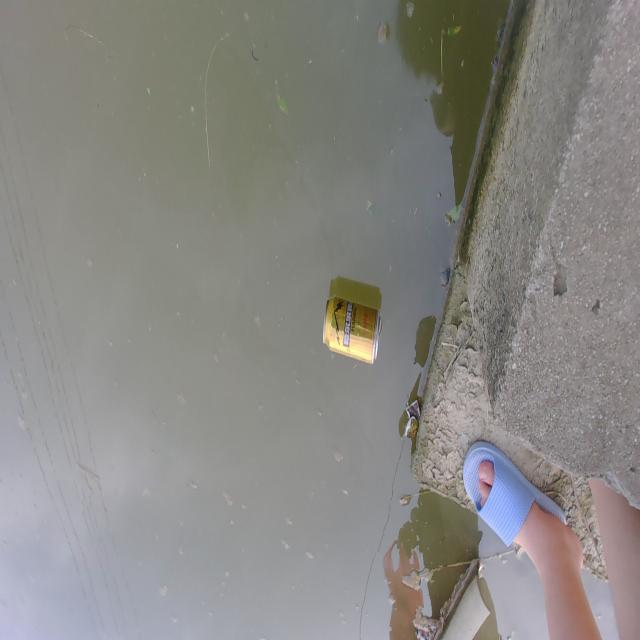garbage: (462, 438, 568, 549), (322, 274, 382, 364)
